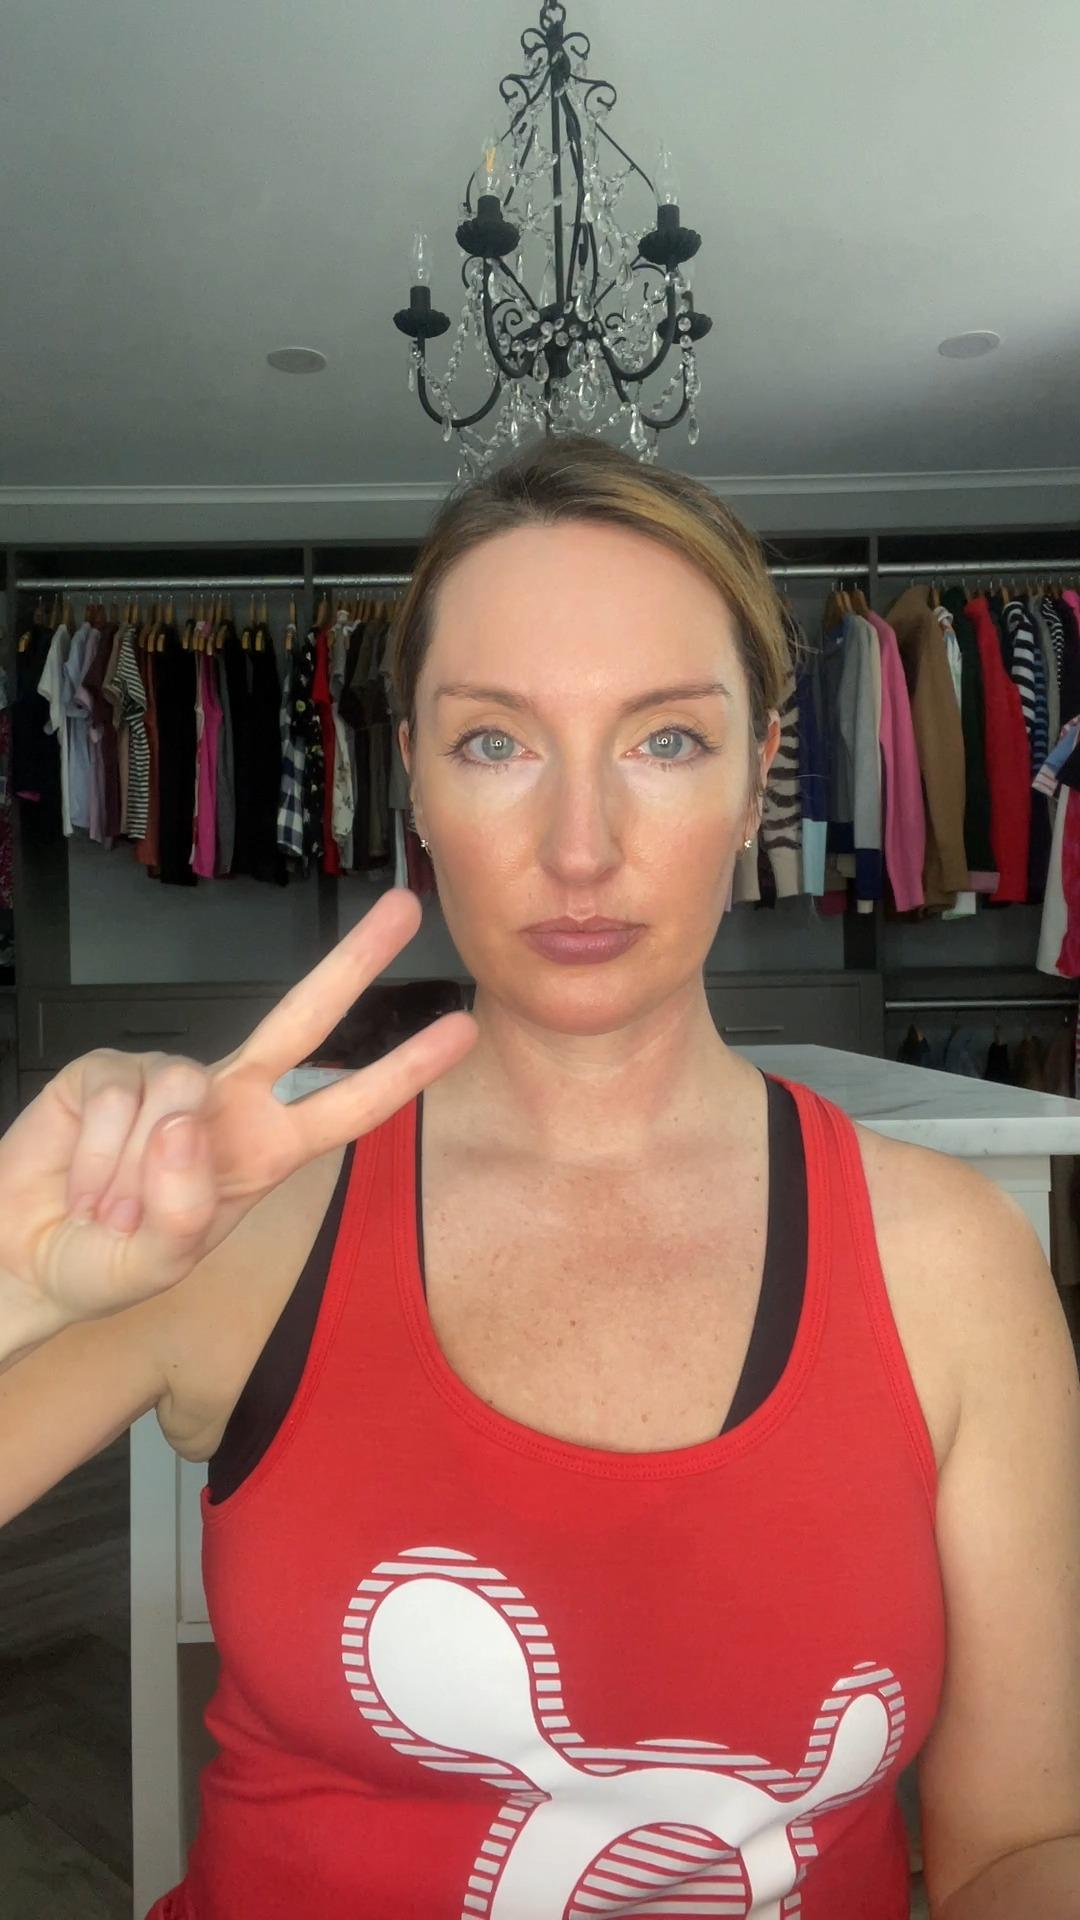Scissors: (0, 886, 476, 1325)
